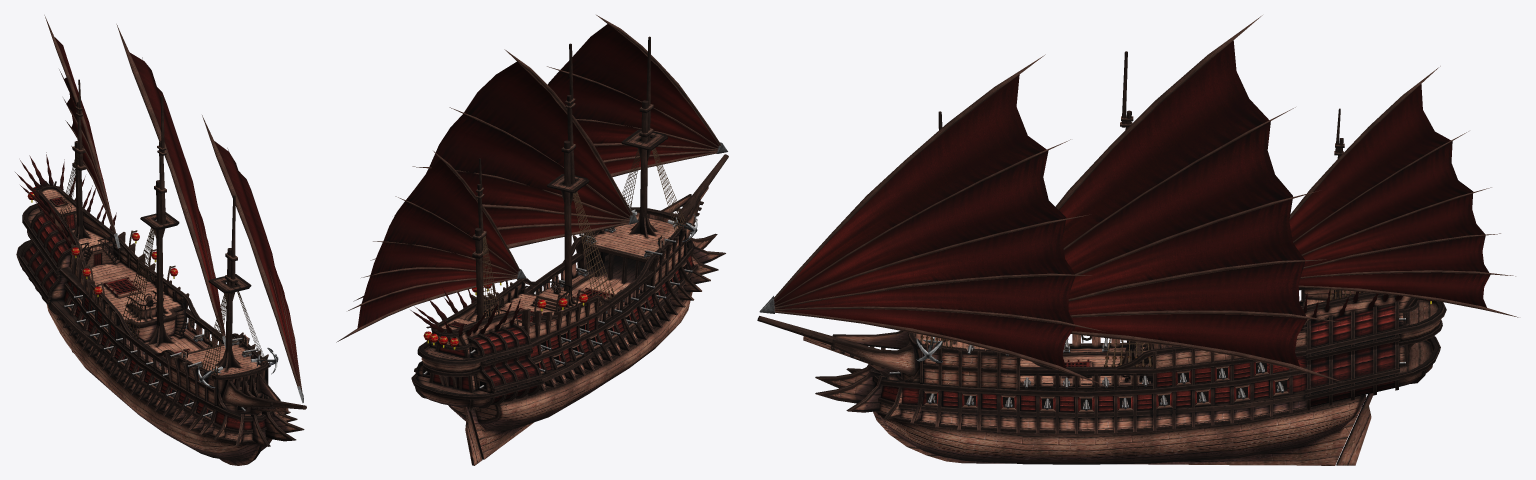
3 renders of one model, left to right at view 1: azimuth 30°, elevation 25°; view 2: azimuth 150°, elevation 25°; view 3: azimuth 270°, elevation 25°, orthographic. The views are drawn at different scales.
Visible parts, largest first — view 1: From the Shallows_03 - Default_0, Sail_2, Sail_1, From the Shallows_09 - Default_0, Guns_05 - Default_0; view 2: From the Shallows_03 - Default_0, Sail_2, Sail_1, From the Shallows_09 - Default_0, Guns_05 - Default_0; view 3: Sail_2, From the Shallows_03 - Default_0, Sail_1, Guns_05 - Default_0, From the Shallows_09 - Default_0.
Part boxes in pixels (<box>): From the Shallows_03 - Default_0: <box>15,79,306,465</box>; Sail_2: <box>44,15,302,391</box>; Sail_1: <box>116,24,225,338</box>; From the Shallows_09 - Default_0: <box>59,152,267,375</box>; Guns_05 - Default_0: <box>64,295,258,416</box>; From the Shallows_03 - Default_0: <box>410,36,728,465</box>; Sail_2: <box>336,15,720,342</box>; Sail_1: <box>353,49,632,301</box>; From the Shallows_09 - Default_0: <box>482,148,685,318</box>; Guns_05 - Default_0: <box>423,227,692,389</box>; Sail_2: <box>774,54,1518,385</box>; From the Shallows_03 - Default_0: <box>757,51,1446,465</box>; Sail_1: <box>1055,15,1343,382</box>; Guns_05 - Default_0: <box>889,318,1405,410</box>; From the Shallows_09 - Default_0: <box>920,289,1360,367</box>.
Size of what is drawn, in the model's own units: 1.04 by 2.12 by 3.23.
Materials: 4 (4 with a texture image).
